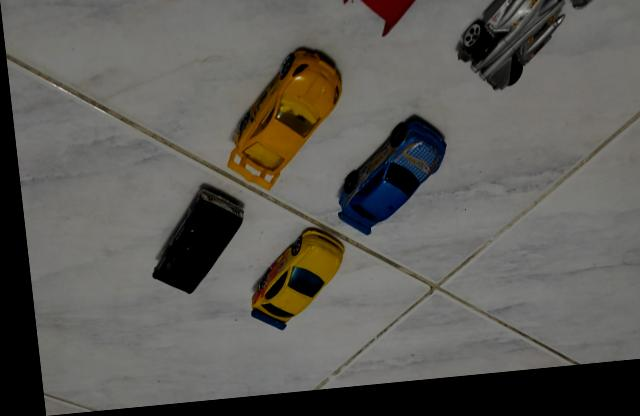01_FORD: (145, 190, 240, 298)
02_OZSOME: (242, 232, 338, 334)
03_V8: (341, 0, 422, 47)
04_MERZEDES: (332, 121, 443, 241)
05_DC121: (453, 0, 615, 99)
07_RHLTURBO: (221, 52, 341, 196)
